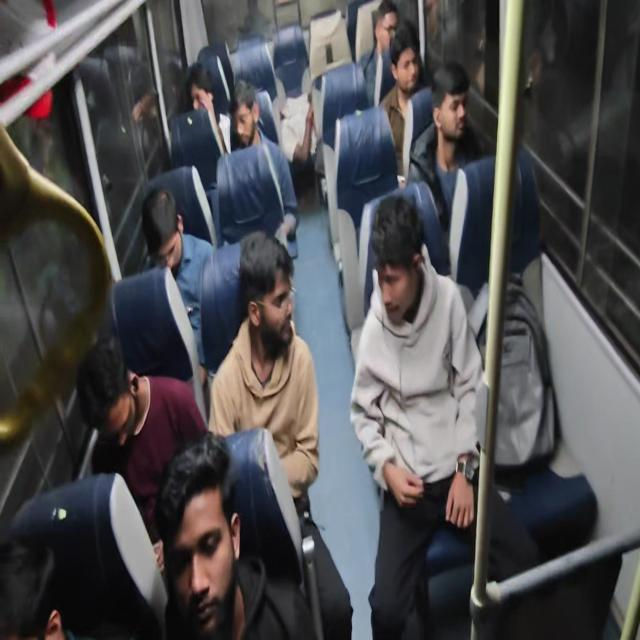person: (349, 193, 537, 638), (155, 431, 319, 638), (207, 231, 320, 512), (406, 61, 541, 296), (76, 335, 208, 572), (1, 471, 167, 638), (139, 186, 266, 375), (228, 80, 315, 252), (406, 60, 483, 230), (377, 21, 430, 185), (180, 61, 229, 157), (358, 0, 398, 108)
